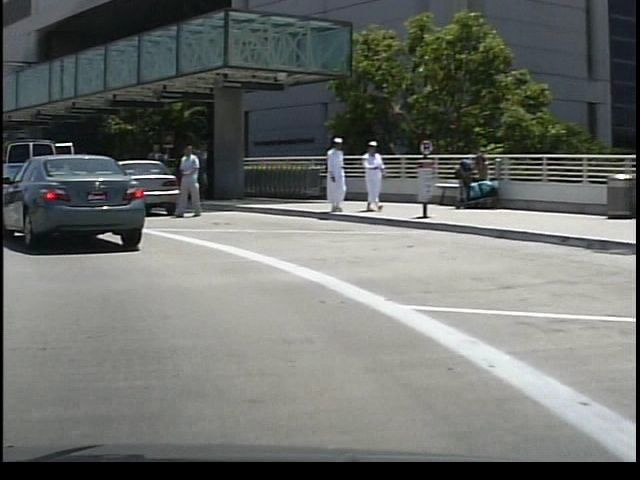person: (171, 138, 205, 225), (356, 135, 387, 215), (319, 133, 345, 219)
